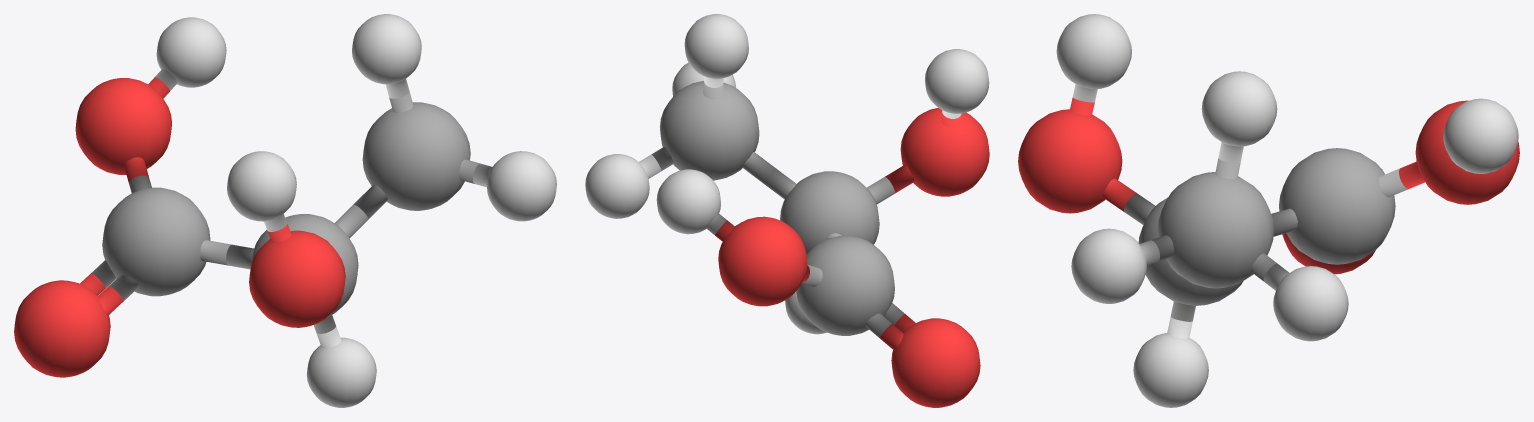
Rendered from acido láctico.glb.
3 renders of one model, left to right at view 1: azimuth 30°, elevation 25°; view 2: azimuth 150°, elevation 25°; view 3: azimuth 270°, elevation 25°, orthographic. The views are drawn at different scales.
Parts seen in each view (by area): view 1: Shape_Sphere.002, Shape_Sphere, Shape_Sphere.003, Shape_Sphere.005, Shape_Sphere.004, Shape_Sphere.007, Shape_Sphere.008, Shape_Sphere.011, Shape_Sphere.010, Shape_Sphere.009, Shape_Sphere.001, Shape_Cylinder (+3 smaller); view 2: Shape_Sphere, Shape_Sphere.002, Shape_Sphere.004, Shape_Sphere.003, Shape_Sphere.005, Shape_Sphere.001, Shape_Sphere.008, Shape_Sphere.011, Shape_Sphere.006, Shape_Sphere.010, Shape_Sphere.009, Shape_Sphere.007 (+6 smaller); view 3: Shape_Sphere, Shape_Sphere.002, Shape_Sphere.005, Shape_Sphere.010, Shape_Sphere.008, Shape_Sphere.006, Shape_Sphere.007, Shape_Sphere.011, Shape_Sphere.004, Shape_Sphere.009, Shape_Sphere.001, Shape_Sphere.003 (+5 smaller).
Boxes of the visible parts, x1,y1,x2,y2 form: Shape_Sphere.002: (102, 187, 210, 296); Shape_Sphere: (362, 102, 470, 210); Shape_Sphere.003: (14, 280, 110, 377); Shape_Sphere.005: (249, 230, 345, 327); Shape_Sphere.004: (75, 78, 171, 174); Shape_Sphere.007: (487, 151, 556, 221); Shape_Sphere.008: (352, 14, 421, 84); Shape_Sphere.011: (227, 151, 296, 221); Shape_Sphere.010: (156, 17, 226, 87); Shape_Sphere.009: (306, 337, 376, 407); Shape_Sphere.001: (251, 214, 358, 317); Shape_Cylinder: (353, 185, 387, 219); Shape_Sphere: (660, 81, 759, 180); Shape_Sphere.002: (796, 235, 894, 335); Shape_Sphere.004: (718, 216, 807, 306); Shape_Sphere.003: (891, 318, 980, 407); Shape_Sphere.005: (900, 108, 989, 196); Shape_Sphere.001: (780, 171, 879, 254); Shape_Sphere.008: (684, 14, 748, 78); Shape_Sphere.011: (925, 49, 989, 113); Shape_Sphere.006: (585, 154, 649, 218); Shape_Sphere.010: (656, 169, 720, 234); Shape_Sphere.009: (785, 291, 826, 334); Shape_Sphere.007: (672, 62, 735, 96); Shape_Sphere: (1157, 172, 1274, 288); Shape_Sphere.002: (1279, 148, 1395, 264); Shape_Sphere.005: (1018, 109, 1122, 213); Shape_Sphere.010: (1443, 98, 1518, 173); Shape_Sphere.008: (1201, 71, 1277, 146); Shape_Sphere.006: (1273, 266, 1348, 341); Shape_Sphere.007: (1071, 228, 1146, 303); Shape_Sphere.011: (1056, 14, 1131, 89); Shape_Sphere.004: (1415, 100, 1519, 204); Shape_Sphere.009: (1133, 333, 1208, 407); Shape_Sphere.001: (1138, 197, 1243, 305); Shape_Sphere.003: (1282, 233, 1375, 274).
Size of the model in its own units: 4.63 by 3.57 by 4.39.
